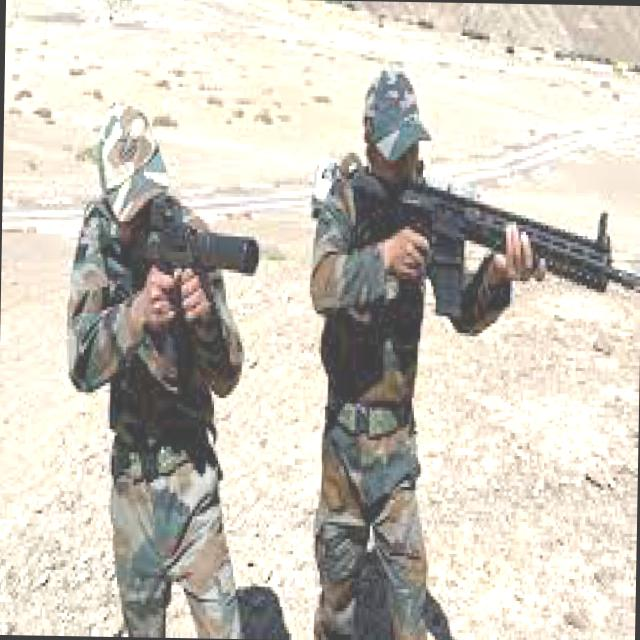long weapon: (343, 159, 639, 343), (121, 198, 285, 279)
